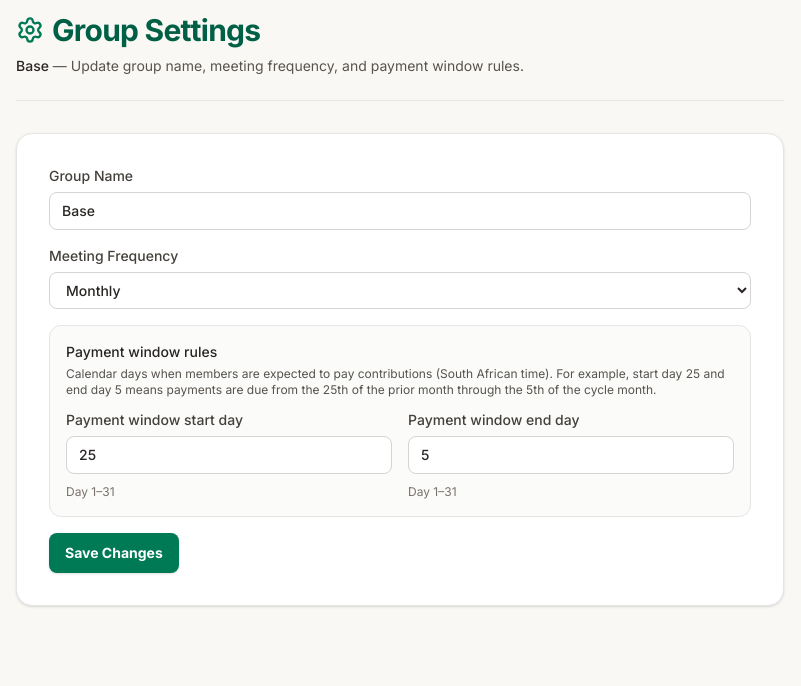
Test: Settings › shows save error from API and clears saving state
This screenshot has width=801, height=686.
expect the field showing "Base" is shown: met, box 49,192 -> 751,230
What coordinates should you click on to do the following:
click the button "Save Changes"
I would click on:
 (114, 553)
Its box is 49,533 -> 179,573.
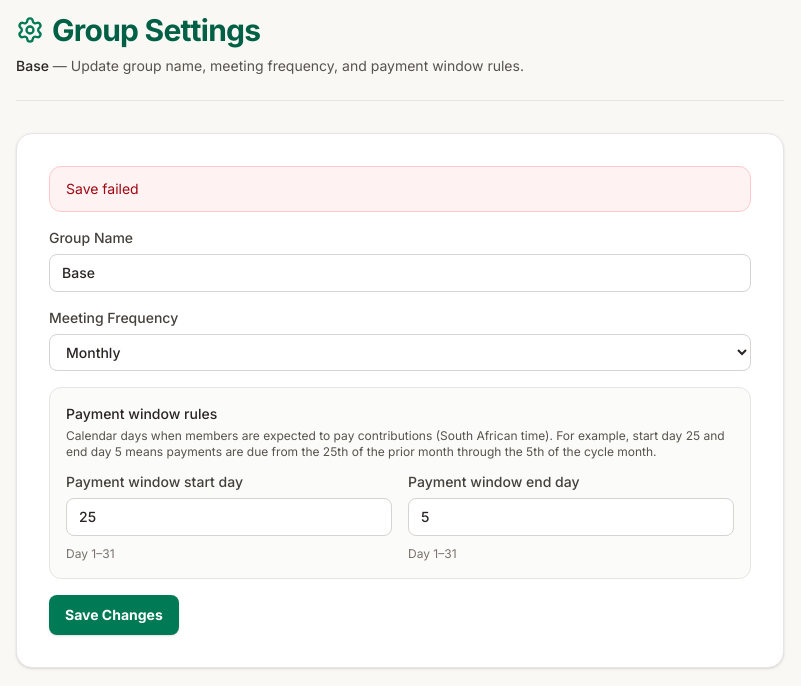
expect the button "Save Changes" is shown: met, box 49,595 -> 179,635
expect the text "Save failed" is shown: met, box 49,166 -> 751,212
